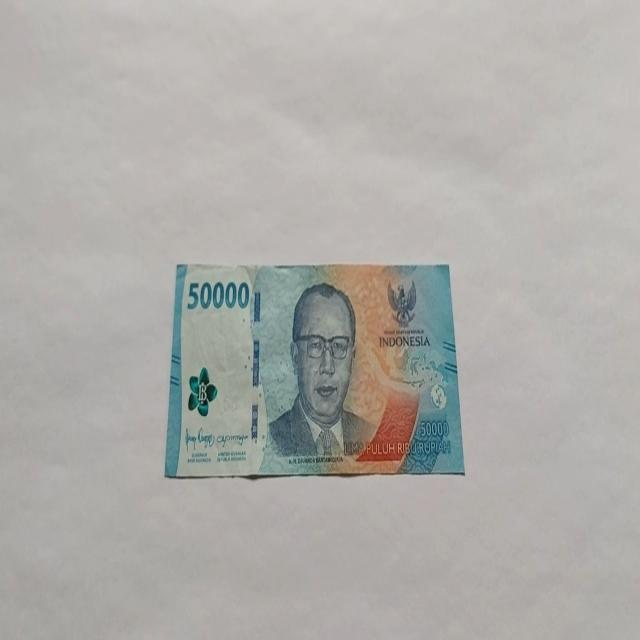lima puluh ribu rupiah: (164, 260, 465, 480), (264, 280, 378, 464)
